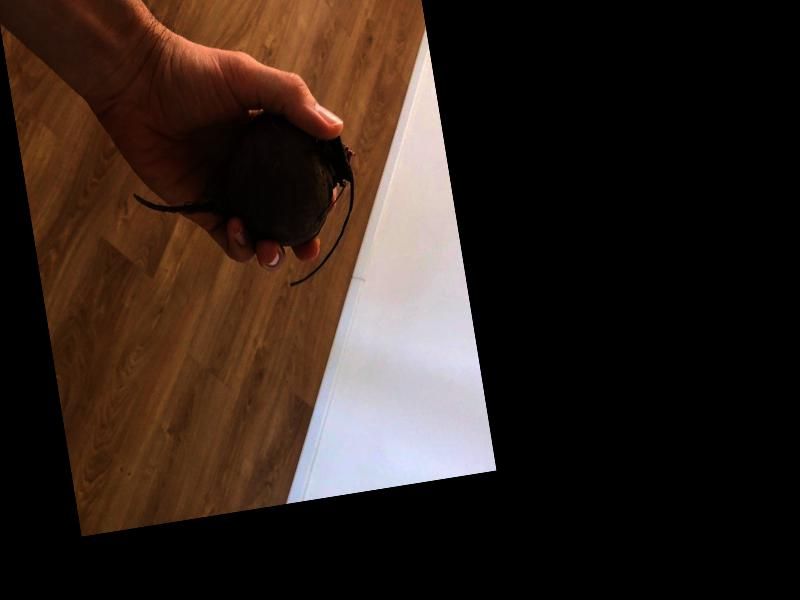Beet: (125, 101, 373, 310)
